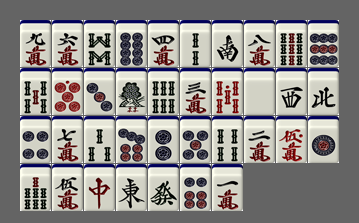0m: (276, 116, 307, 163)
0p: (52, 68, 83, 115)
0s: (212, 68, 243, 115)
1m: (212, 164, 243, 211)
1p: (308, 116, 339, 163)
1s: (116, 68, 147, 115)
1z: (116, 164, 147, 211)
2m: (244, 116, 275, 163)
2p: (148, 116, 179, 163)
2s: (180, 20, 211, 67)
2z: (212, 20, 243, 67)
3m: (180, 68, 211, 115)
3p: (84, 68, 115, 115)
3s: (84, 116, 115, 163)
3z: (276, 68, 307, 115)
4m: (148, 20, 179, 67)
4p: (20, 116, 51, 163)
4s: (212, 116, 243, 163)
4z: (308, 68, 339, 115)
5m: (52, 164, 83, 211)
5p: (180, 116, 211, 163)
5s: (20, 68, 51, 115)
5z: (244, 68, 275, 115)
6m: (52, 20, 83, 67)
6p: (180, 164, 211, 211)
6s: (148, 68, 179, 115)
6z: (148, 164, 179, 211)
7m: (52, 116, 83, 163)
7p: (116, 116, 147, 163)
7s: (20, 164, 51, 211)
7z: (84, 164, 115, 211)
8m: (244, 20, 275, 67)
8p: (116, 20, 147, 67)
8s: (84, 20, 115, 67)
9m: (20, 20, 51, 67)
9p: (308, 20, 339, 67)
9s: (276, 20, 307, 67)
